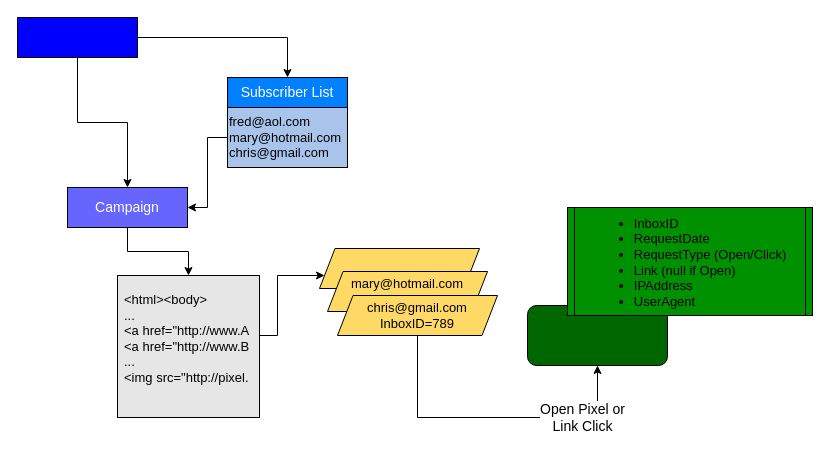
Image size: 830x451. Some labels were removed from this diagram. The shapes that lost their labels are listed below. From the top down, each one's box as (x1, y1, x2, y2) in pixels, then its label:
(16, 16, 138, 58): Company
(318, 248, 480, 288): fred@aol.com InboxID=123
(526, 304, 668, 366): Campaign Tracking
